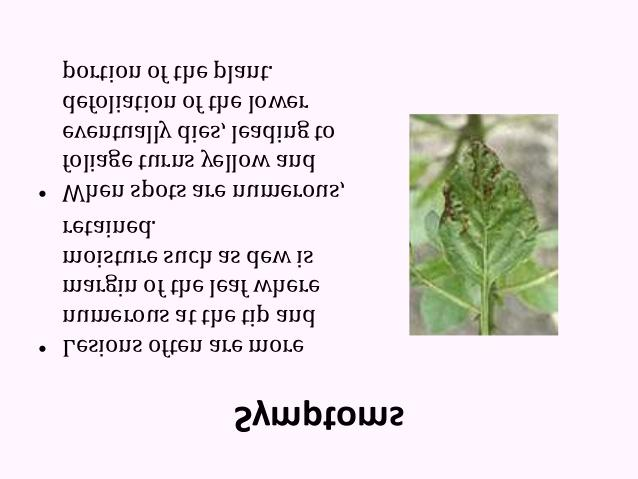Tomato leaf bacterial spot: (438, 130, 538, 287)
